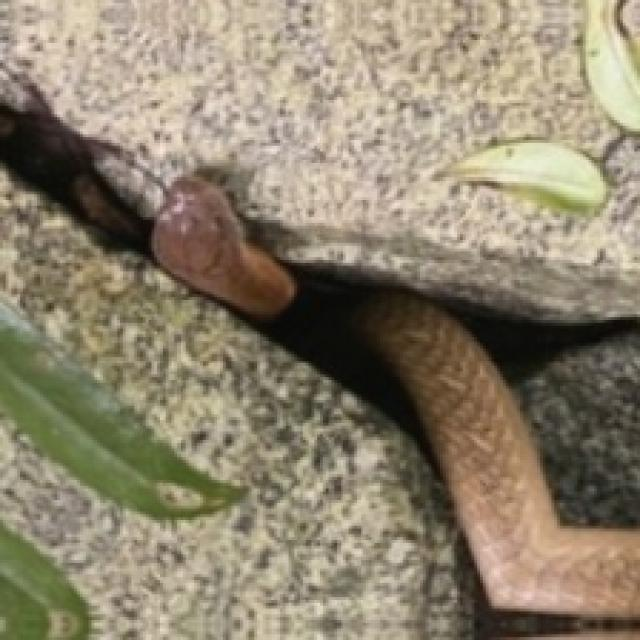king cobra: (0, 169, 474, 637), (0, 0, 637, 320), (506, 329, 637, 526), (434, 134, 609, 214)
